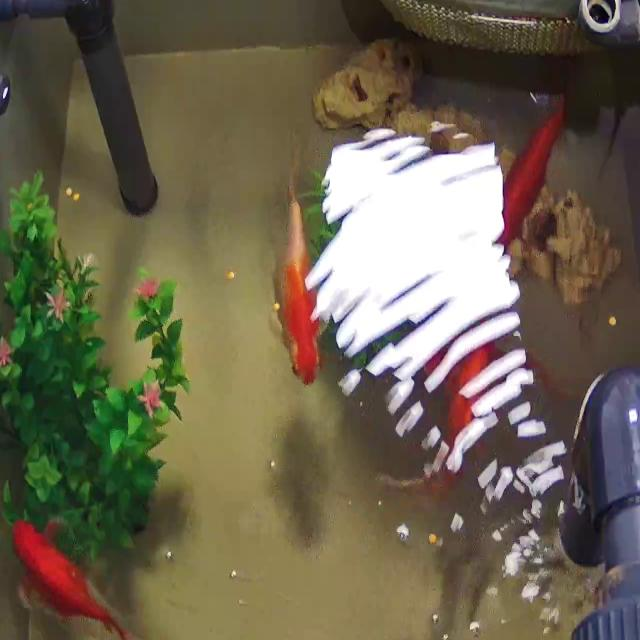fish: (0, 511, 167, 640), (268, 152, 335, 390), (488, 82, 582, 249)
